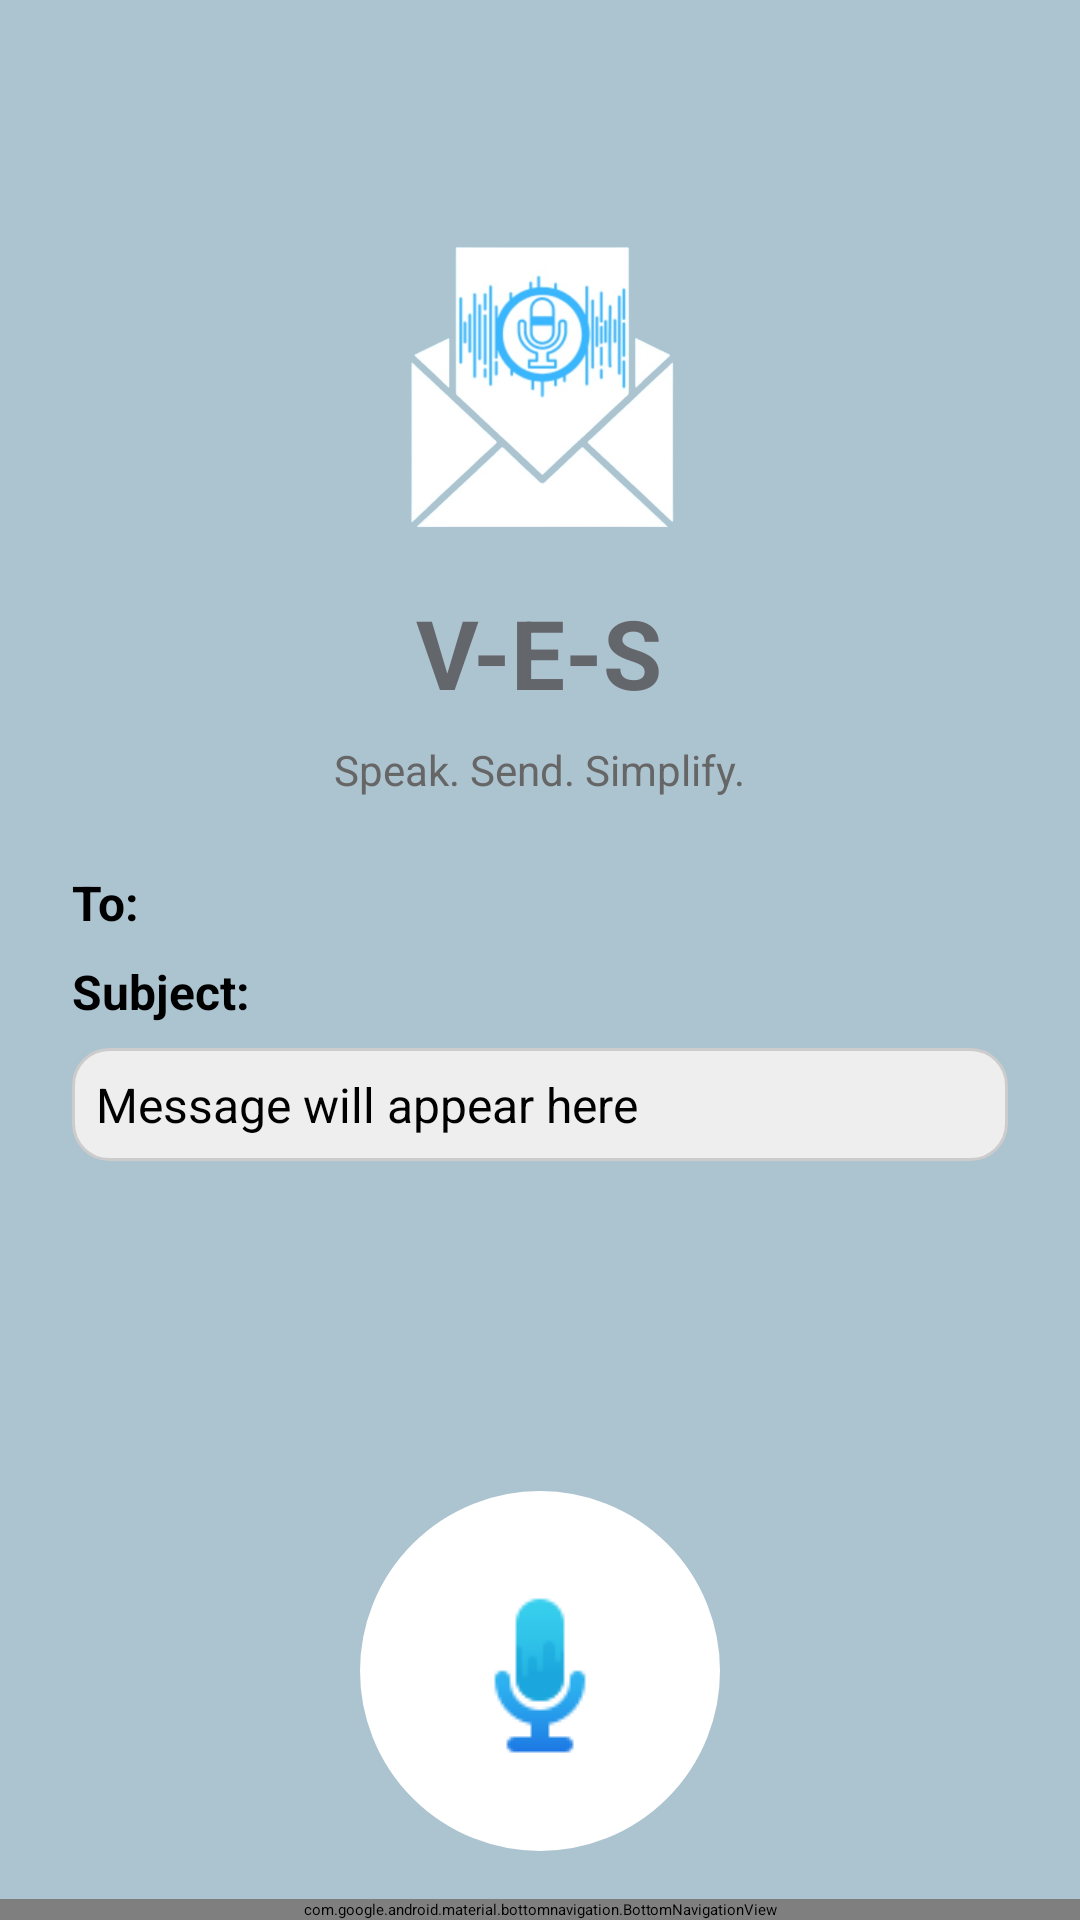

Where to tap for icons on this 1080 × 1920 app screen, as [x,y]:
Start Voice: [540,1671]
